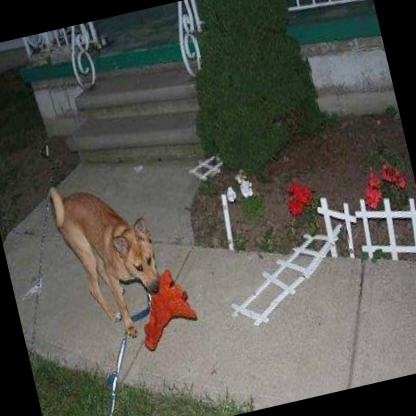basenji: (45, 167, 171, 350)
